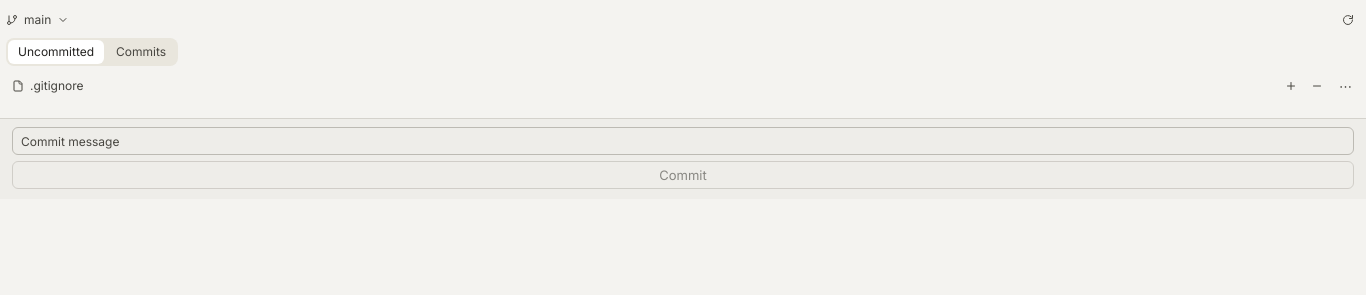
it: ChangesSurface › shows a refused diff as the wire's sentence, not as an empty diff
The image size is (1366, 295).
Click the button with class "workspace-file-change".
click(66, 86)  # box [6,74,1275,98]
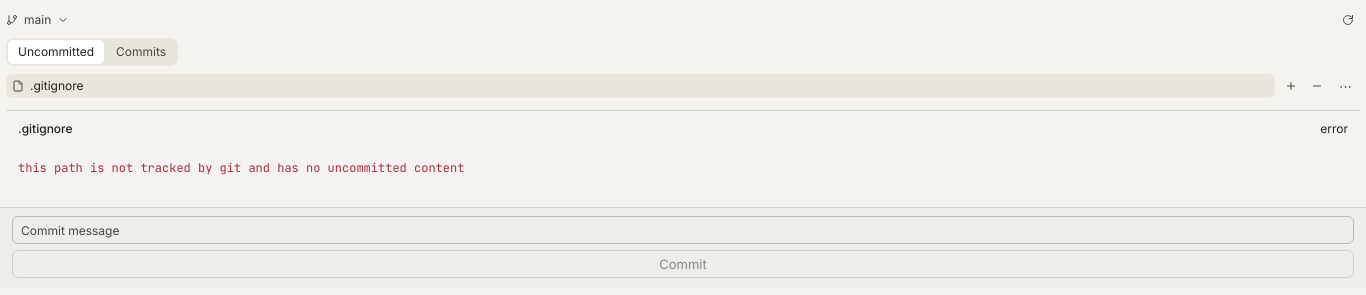
Expected: the message "this path is not tracked by git and has no uncommitted content" is shown, [18,160,464,176]
Expected: the text with class "workspace-changes-diff-state" reads "error", [1320,121,1348,136]
